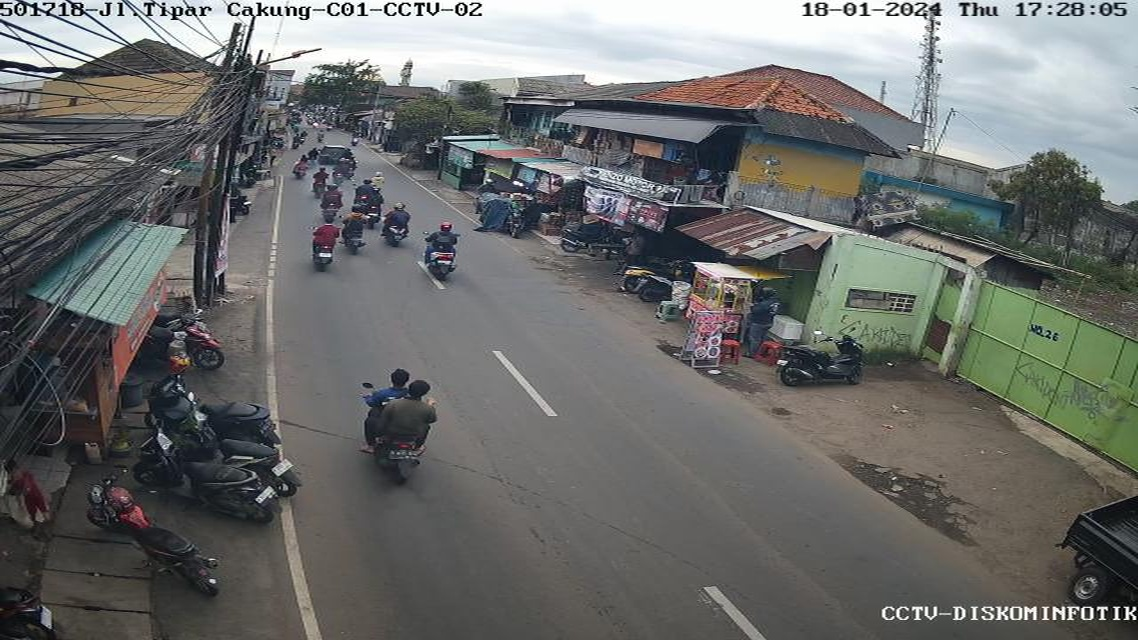Gerobak: (25, 302, 140, 449), (665, 247, 766, 363)
